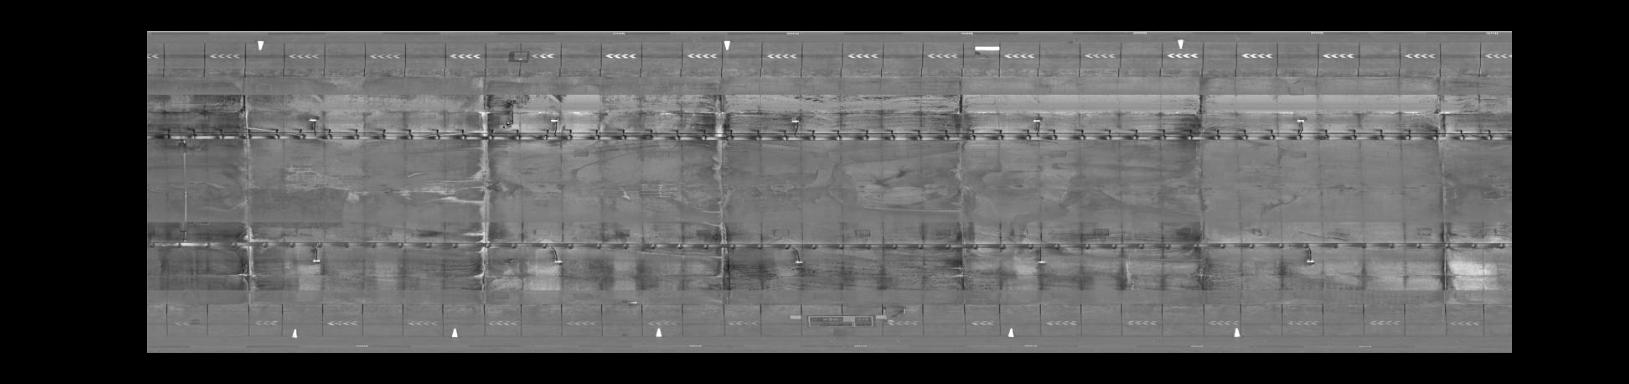light: (308, 254, 329, 269), (1302, 255, 1318, 267), (545, 116, 565, 126), (548, 257, 567, 267), (1032, 257, 1049, 267), (789, 258, 808, 267), (306, 114, 322, 125), (787, 116, 803, 126), (1291, 117, 1309, 125), (1027, 116, 1044, 124)
